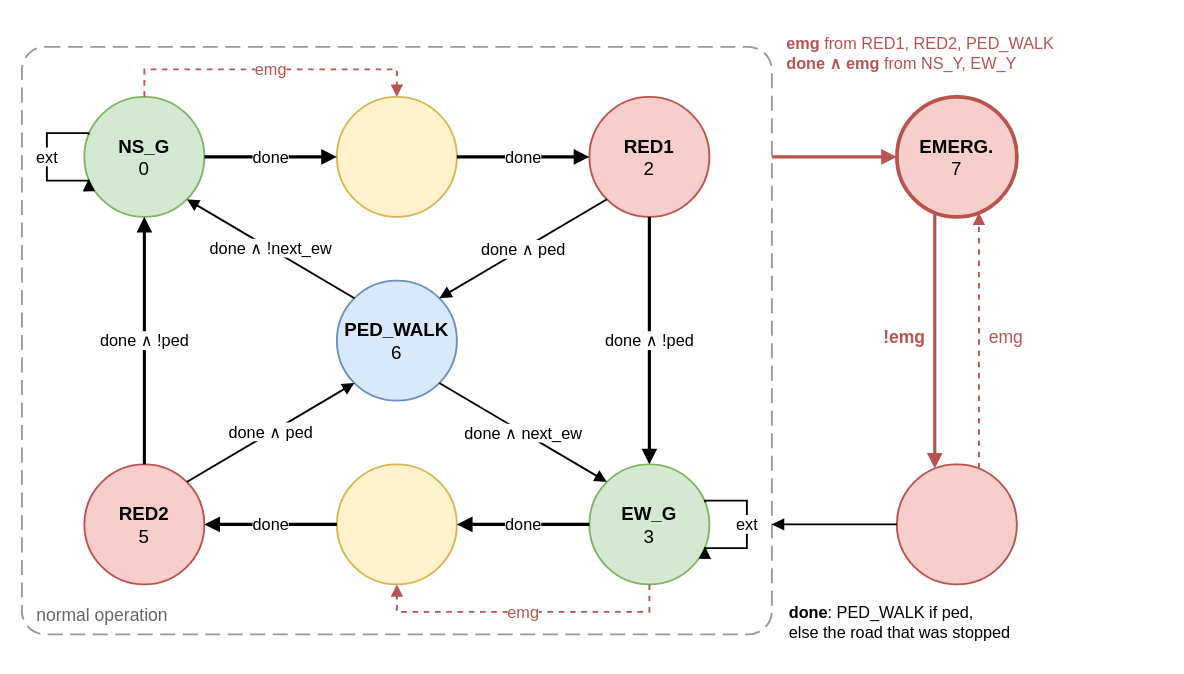
Some shapes in this 1184 by 674 pixel diagram are drawn without their labels. The box of each missing label's shape, as (x1, y1, x2, y2) in pixels:
EW_Y 4: (335, 463, 457, 585)
NS_Y 1: (335, 95, 457, 217)
RECOVER 8: (895, 463, 1017, 585)
